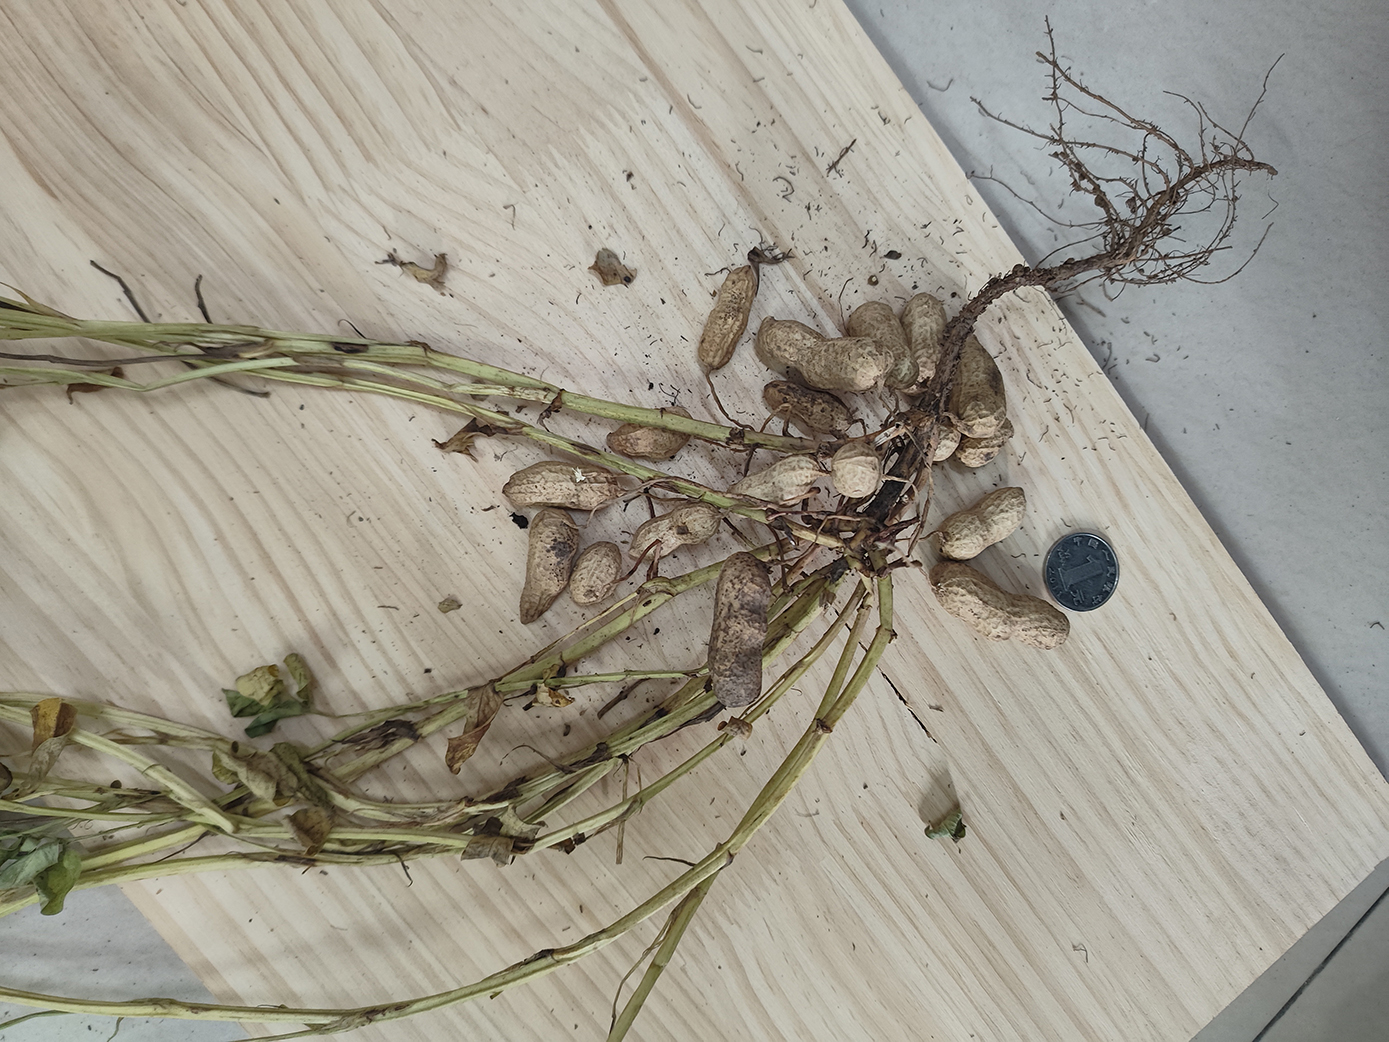h: (930, 561, 1070, 650), (757, 316, 891, 392), (933, 486, 1031, 561), (949, 323, 1008, 437), (522, 503, 578, 624), (848, 303, 918, 391), (627, 503, 724, 561), (699, 263, 754, 364), (503, 462, 620, 509), (762, 382, 854, 437), (727, 454, 818, 507), (898, 292, 947, 387), (606, 406, 692, 461), (570, 542, 622, 605), (830, 441, 882, 500), (959, 419, 1015, 468), (921, 419, 957, 460)
l: (707, 552, 769, 708)
